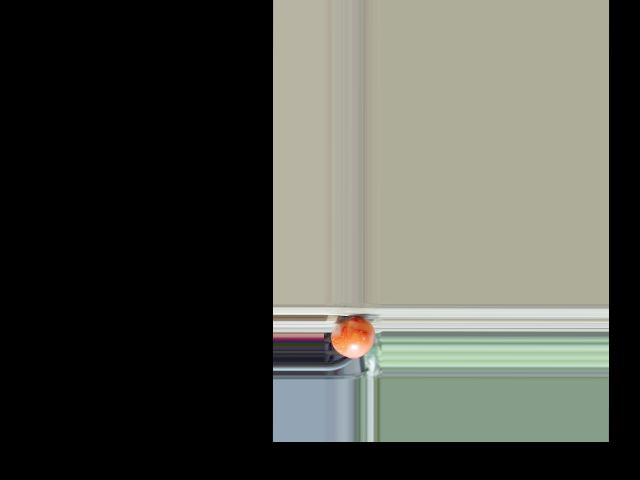tomato: (331, 318, 375, 358)
